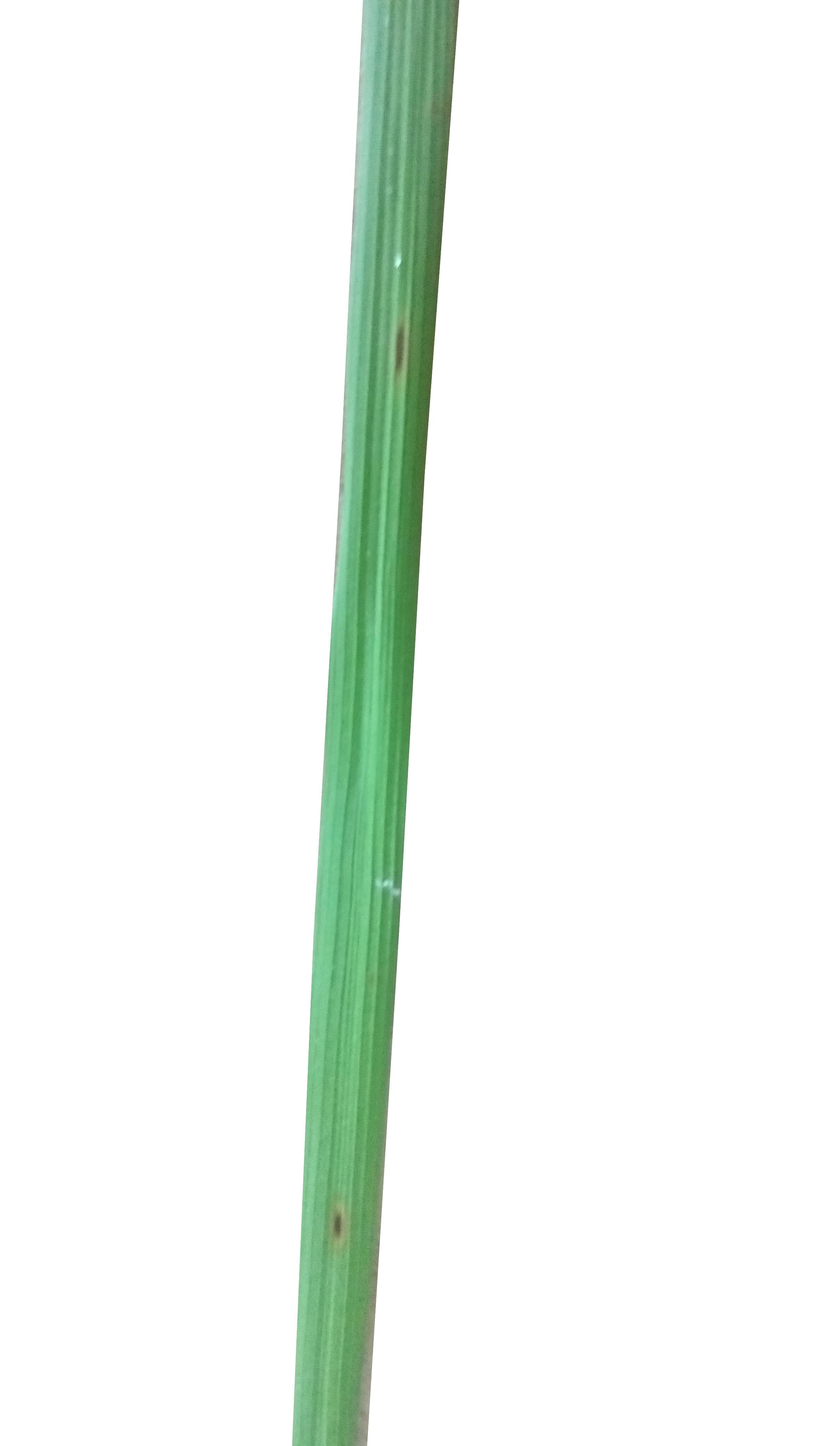Brown spot: (302, 1206, 379, 1248)
